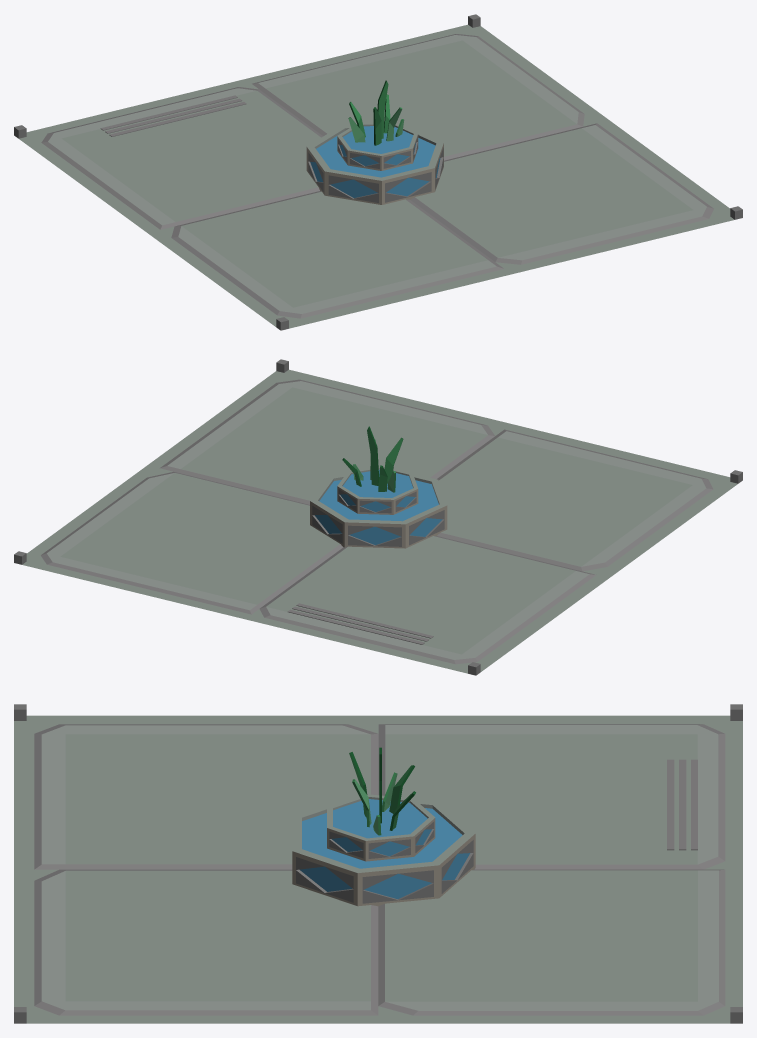
Rendered from Crossroads_D.gltf.
3 views of the same model, one above another, from view 1: azimuth 30°, elevation 25°; view 2: azimuth 150°, elevation 25°; view 3: azimuth 270°, elevation 25° (orthographic). The views are drawn at different scales.
Parts seen in each view (by area): view 1: Scifi_Panel_03 Plaza014_group4.006; view 2: Scifi_Panel_03 Plaza014_group4.006; view 3: Scifi_Panel_03 Plaza014_group4.006.
Part boxes in pixels (x1=…): Scifi_Panel_03 Plaza014_group4.006: x1=14, y1=14, x2=742, y2=330; Scifi_Panel_03 Plaza014_group4.006: x1=14, y1=359, x2=742, y2=675; Scifi_Panel_03 Plaza014_group4.006: x1=14, y1=704, x2=742, y2=1023.
Size of what is drawn, in the model's own units: 10 by 1.99 by 10.
1 material, 1 textured.
